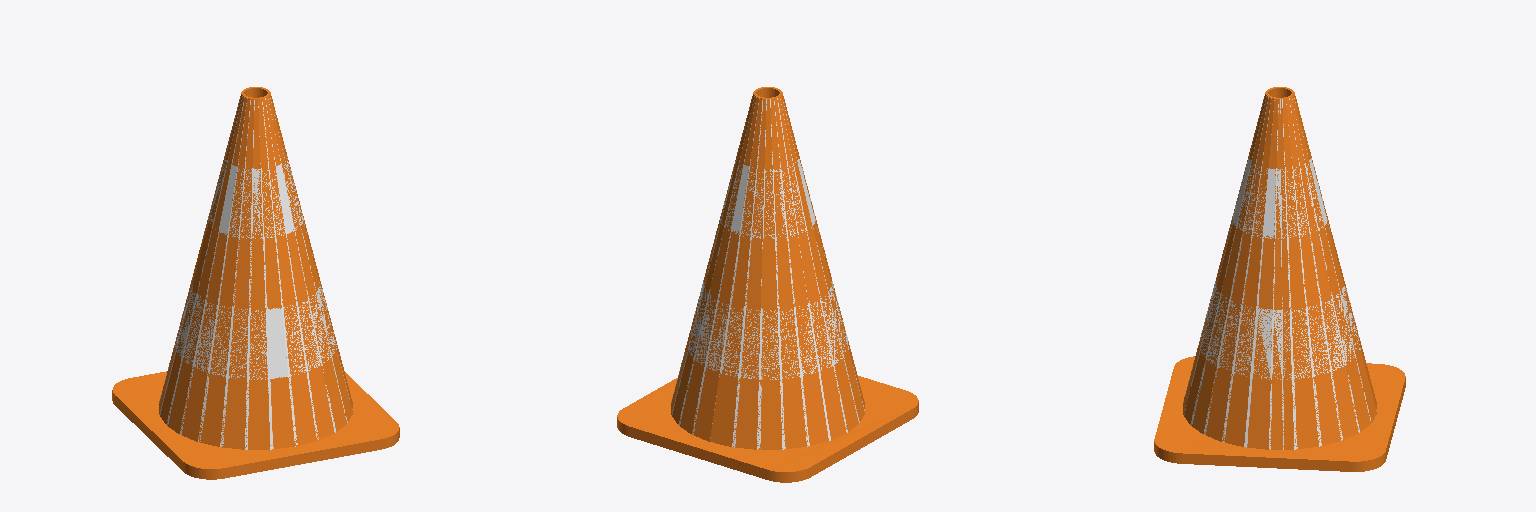
The picture shows the model from 3 angles: view 1: azimuth 30°, elevation 25°; view 2: azimuth 150°, elevation 25°; view 3: azimuth 270°, elevation 25°; orthographic projection.
Parts seen in each view (by area): view 1: Cylinder.001; view 2: Cylinder.001; view 3: Cylinder.001.
Part boxes in pixels (left/top/right/bottom): Cylinder.001: left=112, top=87, right=399, bottom=479; Cylinder.001: left=617, top=87, right=918, bottom=482; Cylinder.001: left=1154, top=87, right=1405, bottom=471.
Size of the model in its own units: 0.5133 by 0.7351 by 0.5133.
Materials: 1 (1 with a texture image).